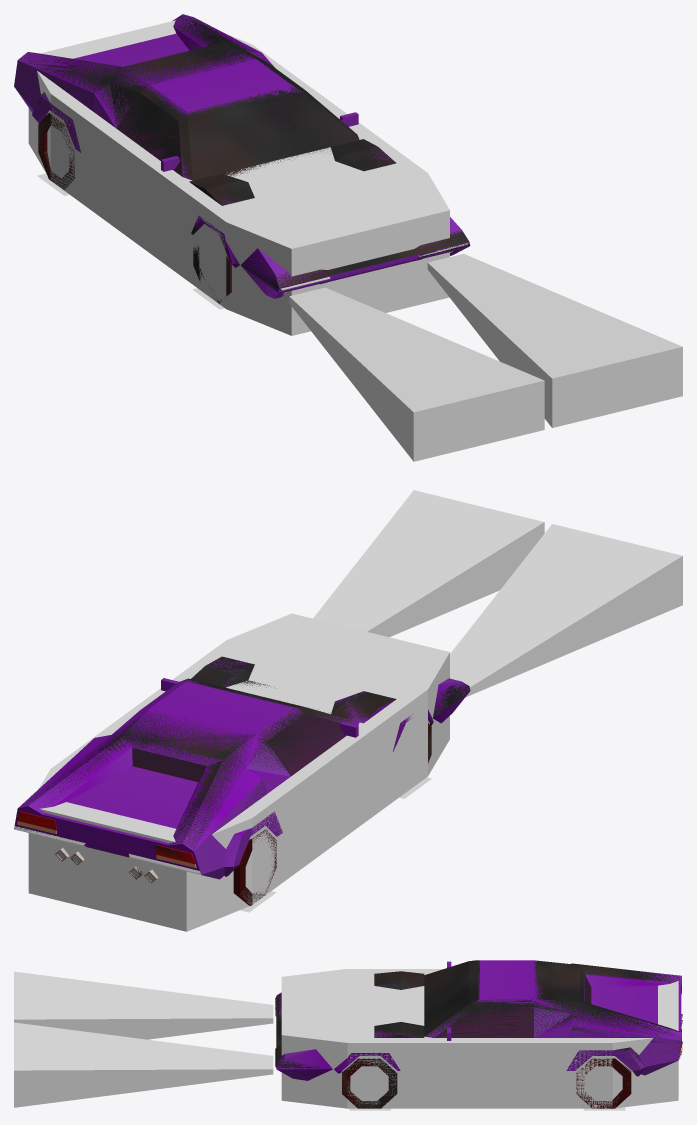
File: Phantom.fbx
3 renders of one model, top to bottom at view 1: azimuth 30°, elevation 25°; view 2: azimuth 150°, elevation 25°; view 3: azimuth 270°, elevation 25°, orthographic. The views are drawn at different scales.
Visible parts, largest first — view 1: phantom_cldr, phantom_gr, phantom_dead, phantom, phantom_lckd, phantom_rearwheels; view 2: phantom_cldr, phantom_gr, phantom, phantom_dead, phantom_lckd; view 3: phantom_cldr, phantom_gr, phantom, phantom_dead, phantom_lckd, phantom_frontwheels, TireSmokeMesh.
Part boxes in pixels (box(x1,y1,x2,y2)): phantom_cldr: box(28, 20, 449, 335); phantom_gr: box(289, 253, 682, 461); phantom_dead: box(15, 14, 470, 292); phantom: box(14, 14, 469, 298); phantom_lckd: box(38, 113, 231, 292); phantom_rearwheels: box(38, 112, 74, 190); phantom_cldr: box(28, 613, 449, 931); phantom_gr: box(313, 490, 682, 697); phantom: box(14, 657, 470, 883); phantom_dead: box(14, 656, 470, 879); phantom_lckd: box(233, 725, 431, 905); phantom_cldr: box(281, 969, 678, 1108); phantom_gr: box(14, 971, 273, 1107); phantom: box(275, 960, 682, 1080); phantom_dead: box(275, 960, 682, 1078); phantom_lckd: box(342, 1058, 631, 1108); phantom_frontwheels: box(342, 1058, 397, 1108); TireSmokeMesh: box(349, 1107, 625, 1110).
Size of the model in its own units: 4.97 by 2.15 by 14.19.
